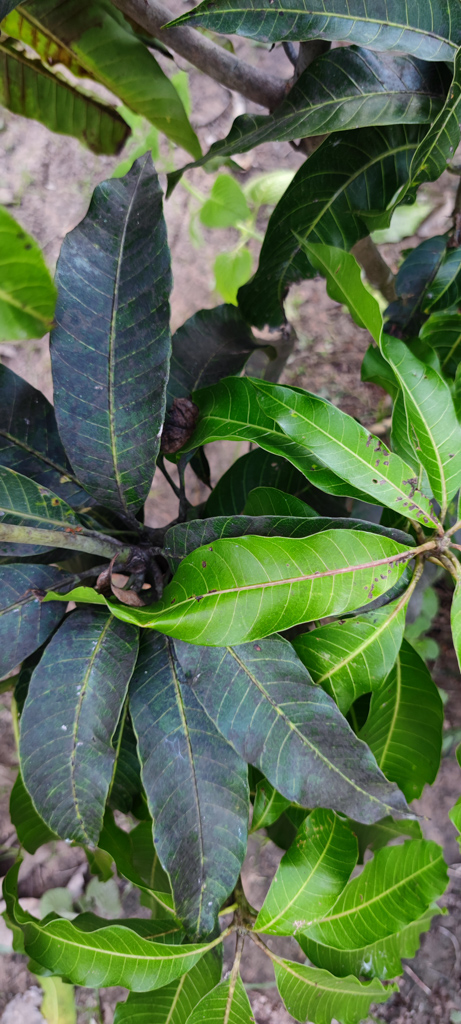Sooty mold: (52, 150, 175, 509), (136, 718, 231, 915), (285, 704, 416, 827), (18, 659, 100, 842), (0, 365, 90, 508), (164, 304, 286, 380), (357, 429, 438, 531), (99, 521, 202, 598), (3, 569, 62, 673), (351, 554, 418, 595), (221, 718, 265, 765)
